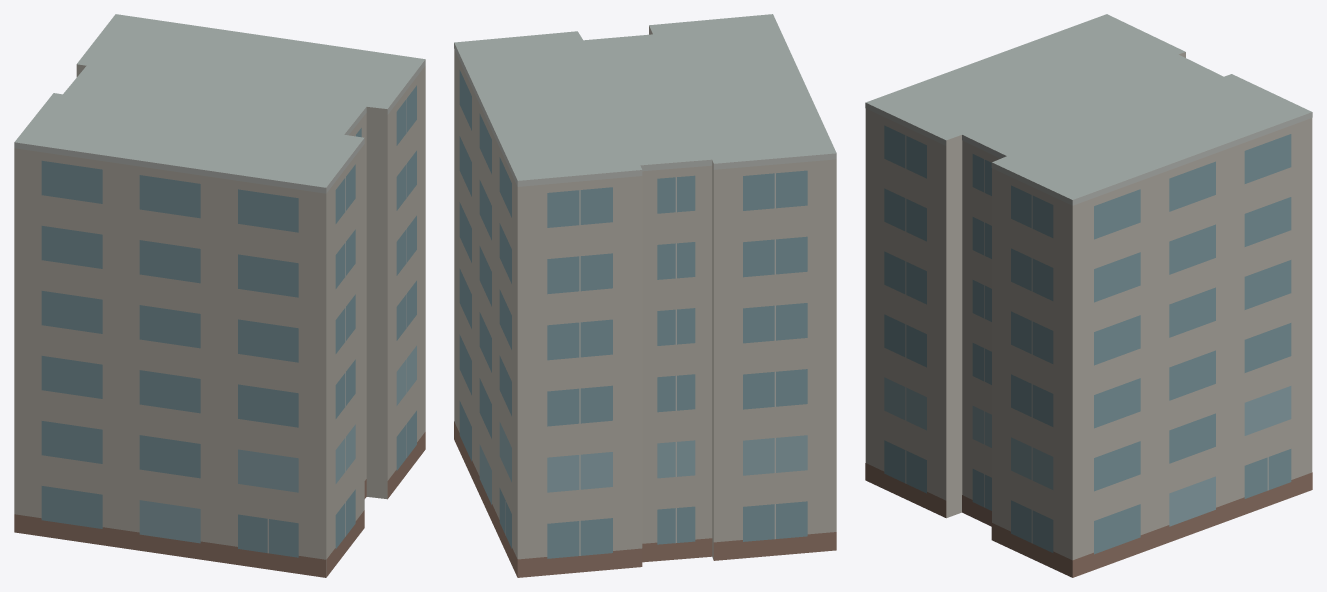
Rendered from survey-upis-32850320.glb.
3 renders of one model, left to right at view 1: azimuth 30°, elevation 25°; view 2: azimuth 150°, elevation 25°; view 3: azimuth 270°, elevation 25°, orthographic. The views are drawn at different scales.
Visible parts, largest first — view 1: survey-upis-32850320.tmp; view 2: survey-upis-32850320.tmp; view 3: survey-upis-32850320.tmp.
Boxes of the visible parts, bbox=[...] form: survey-upis-32850320.tmp: bbox=[14, 14, 425, 577]; survey-upis-32850320.tmp: bbox=[454, 14, 836, 577]; survey-upis-32850320.tmp: bbox=[865, 14, 1312, 577].
Size of the model in its own units: 17.01 by 16.1 by 17.27.
